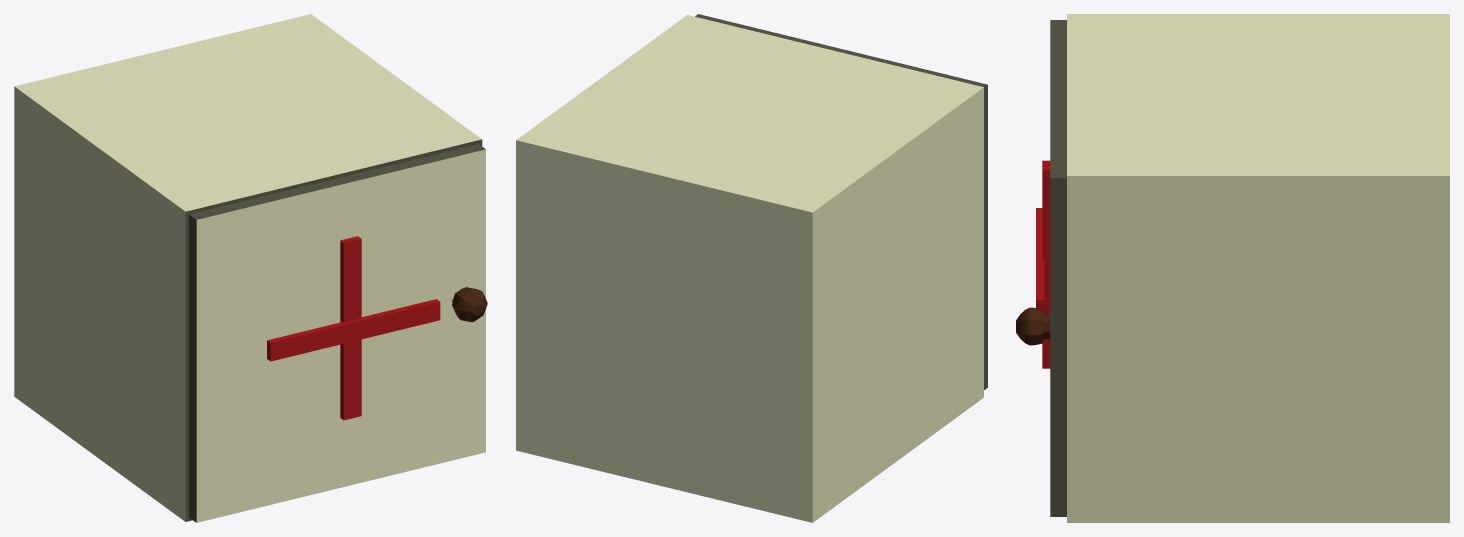
File: medicinal_cupboard.fbx
3 views of the same model, side by side, from view 1: azimuth 30°, elevation 25°; view 2: azimuth 150°, elevation 25°; view 3: azimuth 270°, elevation 25° (orthographic). The views are drawn at different scales.
Parts seen in each view (by area): view 1: Circle; view 2: Circle; view 3: Circle.
Boxes of the visible parts, x1,y1,x2,y2 form: Circle: (14,14,487,522); Circle: (516,14,987,522); Circle: (1016,14,1449,522).
Bounding box in the file's own units: 67.97 × 60 × 60.
